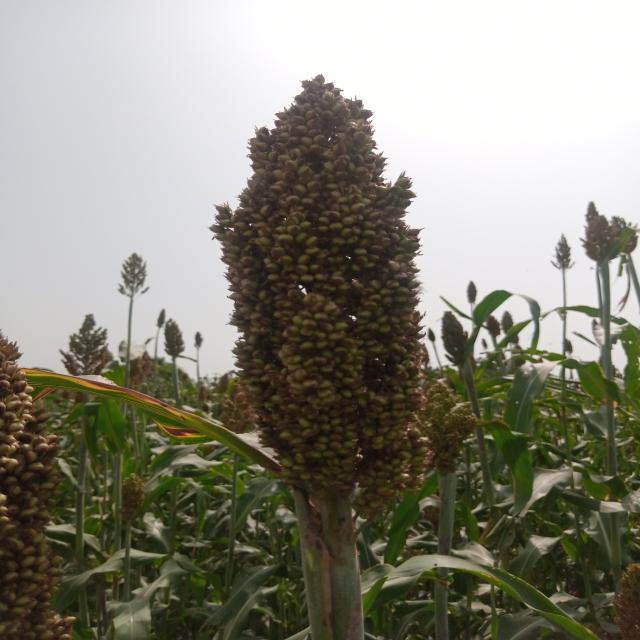UnripeSorghum: (187, 46, 468, 537)
